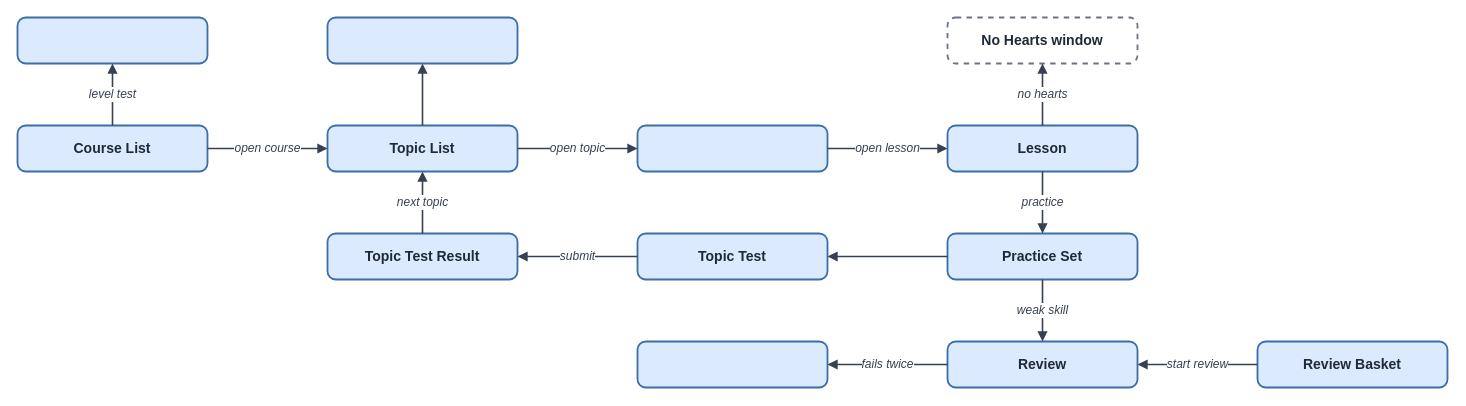
This 1466x406 diagram has some shape labels left out. The centre of each missing label's shape, as x and y in pixels:
Knowledge Tree: (422,40)
Placement Test: (112,40)
Prerequisite Check: (732,364)
Topic: (732,148)
